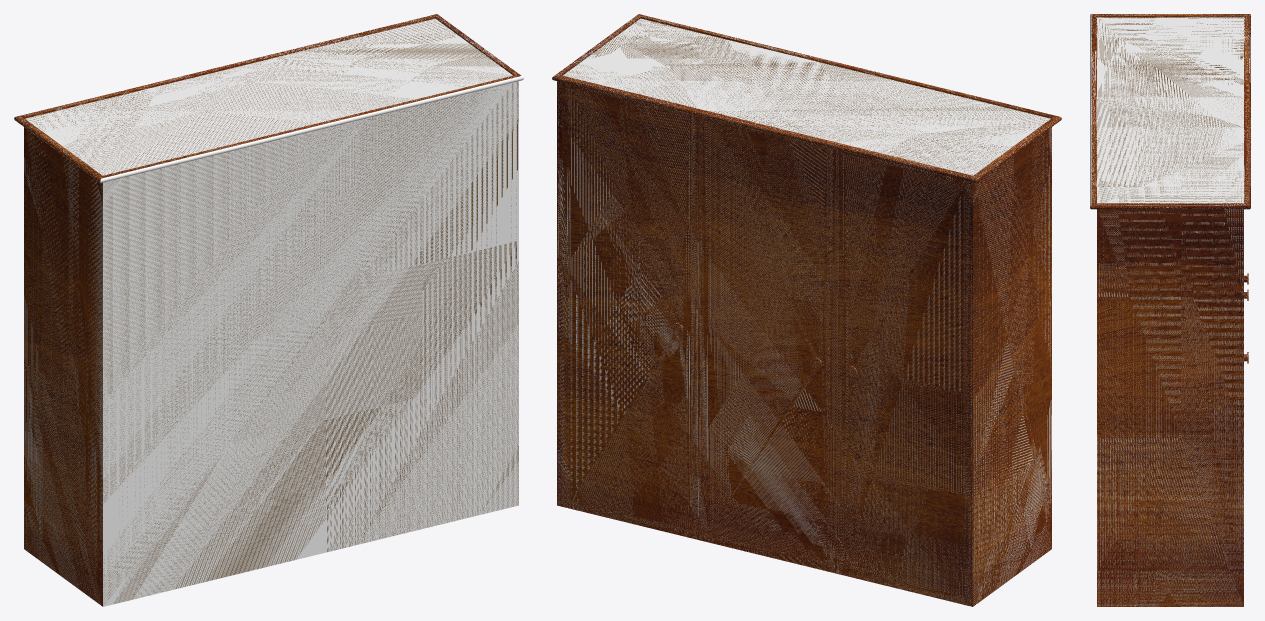
The picture shows the model from 3 angles, left to right: view 1: azimuth 30°, elevation 25°; view 2: azimuth 150°, elevation 25°; view 3: azimuth 270°, elevation 25°; orthographic projection. The views are drawn at different scales.
Parts seen in each view (by area): view 1: mesh1_mesh1-geometry, mesh2_mesh2-geometry; view 2: mesh1_mesh1-geometry, mesh2_mesh2-geometry; view 3: mesh1_mesh1-geometry, mesh2_mesh2-geometry.
Boxes of the visible parts, x1,y1,x2,y2 form: mesh1_mesh1-geometry: (24, 18, 518, 606); mesh2_mesh2-geometry: (14, 14, 523, 182); mesh1_mesh1-geometry: (557, 18, 1051, 606); mesh2_mesh2-geometry: (552, 14, 1061, 182); mesh1_mesh1-geometry: (1096, 17, 1248, 606); mesh2_mesh2-geometry: (1090, 14, 1250, 209).
Size of the model in its own units: 0.6946 by 0.6763 by 0.2452.
